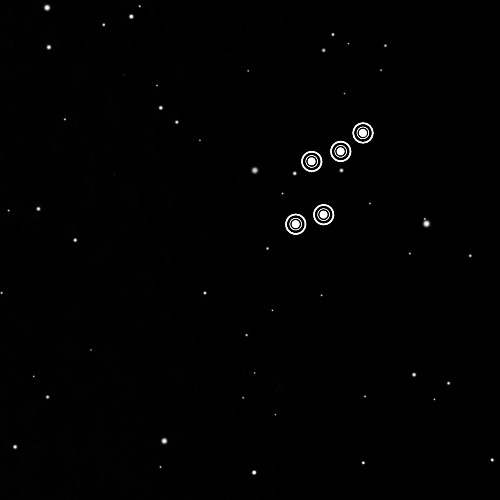lyra: (274, 110, 382, 249)
